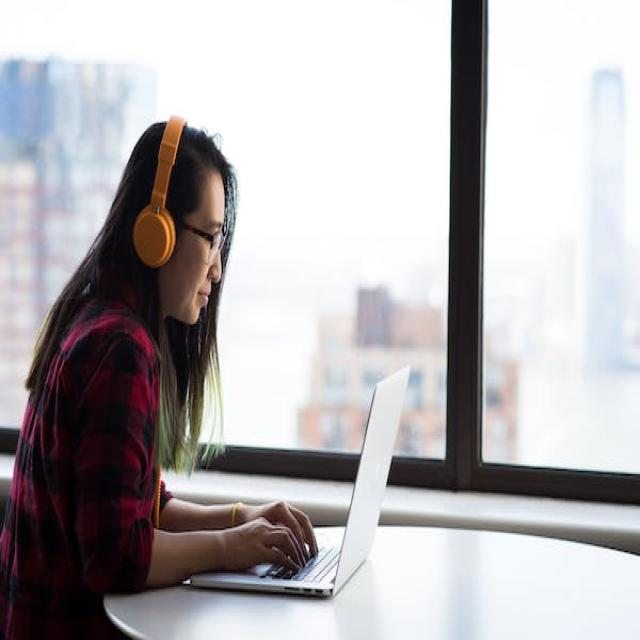Headphone: (133, 111, 187, 269)
